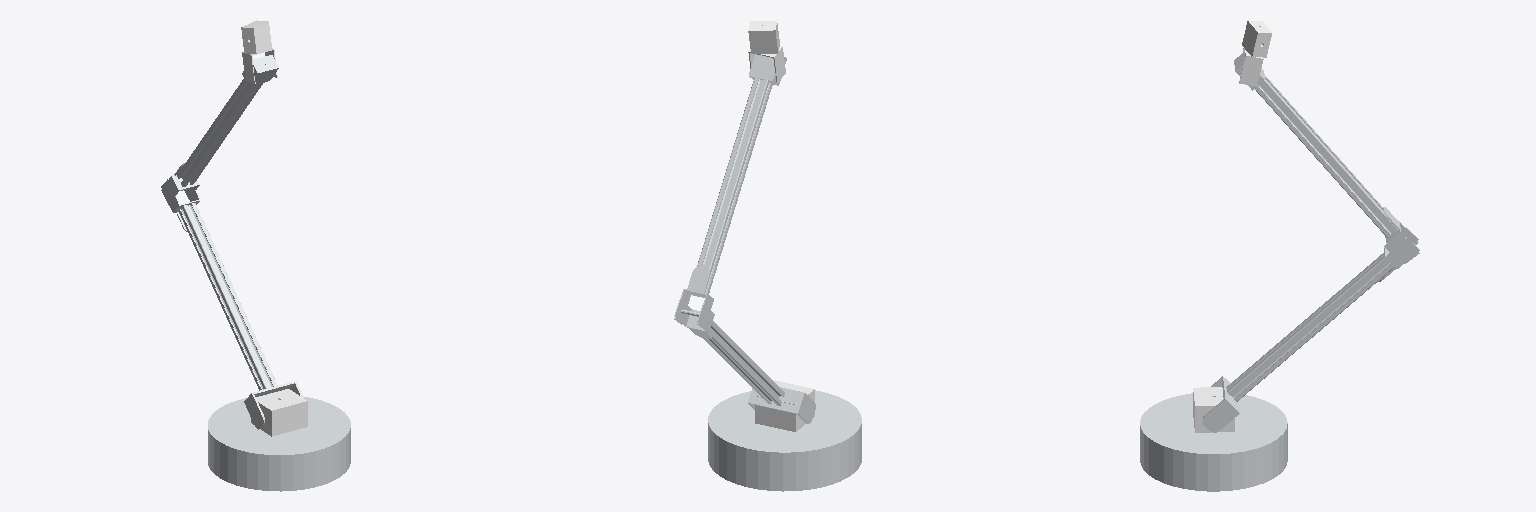
The robot description file, URDF, robot "lcar_arm_urdf":
<?xml version="1.0" encoding="utf-8"?>
<!-- This URDF was automatically created by SolidWorks to URDF Exporter! Originally created by [author] ([email redacted]) 
     Commit Version:   Build Version: 1.6.9335.19781
     For more information, please see http://wiki.ros.org/sw_urdf_exporter -->
<robot
  name="lcar_arm_urdf">
  <link
    name="base_link">
    <inertial>
      <origin
        xyz="-0.02926890694392 0.0335677776513082 0.0578761181628154"
        rpy="0 0 0" />
      <mass
        value="4.81415144801555" />
      <inertia
        ixx="0.013469343791239"
        ixy="-1.47432832463088E-38"
        ixz="-2.62538878256914E-35"
        iyy="0.013469343791239"
        iyz="6.69080537886196E-19"
        izz="0.024422257855332" />
    </inertial>
    <visual>
      <origin
        xyz="0 0 0"
        rpy="0 0 0" />
      <geometry>
        <mesh
          filename="package://lcar_arm_urdf/meshes/base_link.STL" />
      </geometry>
      <material
        name="">
        <color
          rgba="0.898039215686275 0.917647058823529 0.929411764705882 1" />
      </material>
    </visual>
    <collision>
      <origin
        xyz="0 0 0"
        rpy="0 0 0" />
      <geometry>
        <mesh
          filename="package://lcar_arm_urdf/meshes/base_link.STL" />
      </geometry>
    </collision>
  </link>
  <link
    name="link1">
    <inertial>
      <origin
        xyz="-7.26573697040767E-11 -0.0200000028683219 -5.53615452092426E-10"
        rpy="0 0 0" />
      <mass
        value="0.125947655057645" />
      <inertia
        ixx="4.86436700739409E-05"
        ixy="2.04272646501287E-16"
        ixz="1.44616032126546E-13"
        iyy="6.94539601888196E-05"
        iyz="2.11031418164204E-13"
        izz="5.51381735463024E-05" />
    </inertial>
    <visual>
      <origin
        xyz="0 0 0"
        rpy="0 0 0" />
      <geometry>
        <mesh
          filename="package://lcar_arm_urdf/meshes/link1.STL" />
      </geometry>
      <material
        name="">
        <color
          rgba="1 1 1 1" />
      </material>
    </visual>
    <collision>
      <origin
        xyz="0 0 0"
        rpy="0 0 0" />
      <geometry>
        <mesh
          filename="package://lcar_arm_urdf/meshes/link1.STL" />
      </geometry>
    </collision>
  </link>
  <joint
    name="joint1"
    type="continuous">
    <origin
      xyz="-0.0292689069439218 0.0335677776513077 0.0858777699921129"
      rpy="-1.5707963267949 0 0.0447978554545242" />
    <parent
      link="base_link" />
    <child
      link="link1" />
    <axis
      xyz="0 1 0" />
    <limit
      lower="-3.14"
      upper="3.14"
      effort="100"
      velocity="1" />
  </joint>
  <link
    name="link2">
    <inertial>
      <origin
        xyz="-0.153810011525643 0.000207975203657465 0.000496403569817148"
        rpy="0 0 0" />
      <mass
        value="0.204308460446307" />
      <inertia
        ixx="5.88469849389552E-05"
        ixy="-1.30852037743231E-06"
        ixz="-3.71955217993701E-07"
        iyy="0.0010557701363535"
        iyz="-4.53839171198937E-09"
        izz="0.00101653459805799" />
    </inertial>
    <visual>
      <origin
        xyz="0 0 0"
        rpy="0 0 0" />
      <geometry>
        <mesh
          filename="package://lcar_arm_urdf/meshes/link2.STL" />
      </geometry>
      <material
        name="">
        <color
          rgba="0.898039215686275 0.917647058823529 0.929411764705882 1" />
      </material>
    </visual>
    <collision>
      <origin
        xyz="0 0 0"
        rpy="0 0 0" />
      <geometry>
        <mesh
          filename="package://lcar_arm_urdf/meshes/link2.STL" />
      </geometry>
    </collision>
  </link>
  <joint
    name="joint2"
    type="continuous">
    <origin
      xyz="0 -0.0200000000000009 0"
      rpy="1.5707963267949 0.825546390557576 1.5707963267949" />
    <parent
      link="link1" />
    <child
      link="link2" />
    <axis
      xyz="0 0 1" />
    <limit
      lower="-3.14"
      upper="3.14"
      effort="100"
      velocity="1" />
  </joint>
  <link
    name="link3">
    <inertial>
      <origin
        xyz="-0.186205644816554 -0.000731438896466874 -3.97214945943372E-05"
        rpy="0 0 0" />
      <mass
        value="0.183595297698191" />
      <inertia
        ixx="1.9960713706461E-05"
        ixy="-1.30852035481437E-06"
        ixz="1.42372941999571E-08"
        iyy="0.00101057089357093"
        iyz="4.5383944075091E-09"
        izz="0.00100658599677987" />
    </inertial>
    <visual>
      <origin
        xyz="0 0 0"
        rpy="0 0 0" />
      <geometry>
        <mesh
          filename="package://lcar_arm_urdf/meshes/link3.STL" />
      </geometry>
      <material
        name="">
        <color
          rgba="0.898039215686275 0.917647058823529 0.929411764705882 1" />
      </material>
    </visual>
    <collision>
      <origin
        xyz="0 0 0"
        rpy="0 0 0" />
      <geometry>
        <mesh
          filename="package://lcar_arm_urdf/meshes/link3.STL" />
      </geometry>
    </collision>
  </link>
  <joint
    name="joint3"
    type="continuous">
    <origin
      xyz="-0.355500000000002 -0.000500000000000264 0"
      rpy="-3.14159265358979 0 1.49779550247654" />
    <parent
      link="link2" />
    <child
      link="link3" />
    <axis
      xyz="0 0 1" />
    <limit
      lower="-3.14"
      upper="3.14"
      effort="100"
      velocity="1" />
  </joint>
  <link
    name="link4">
    <inertial>
      <origin
        xyz="-0.0123553764551634 -3.10640675448975E-05 1.38777878078145E-17"
        rpy="0 0 0" />
      <mass
        value="0.00519804363608551" />
      <inertia
        ixx="1.51818586167438E-06"
        ixy="9.016268676828E-23"
        ixz="1.32348898008484E-22"
        iyy="1.23081690267317E-06"
        iyz="-1.30032792293336E-21"
        izz="2.27727214056804E-06" />
    </inertial>
    <visual>
      <origin
        xyz="0 0 0"
        rpy="0 0 0" />
      <geometry>
        <mesh
          filename="package://lcar_arm_urdf/meshes/link4.STL" />
      </geometry>
      <material
        name="">
        <color
          rgba="1 1 1 1" />
      </material>
    </visual>
    <collision>
      <origin
        xyz="0 0 0"
        rpy="0 0 0" />
      <geometry>
        <mesh
          filename="package://lcar_arm_urdf/meshes/link4.STL" />
      </geometry>
    </collision>
  </link>
  <joint
    name="joint4"
    type="continuous">
    <origin
      xyz="-0.341500000000001 -0.000499999999999723 0"
      rpy="1.5707963267949 0 0.887395066155006" />
    <parent
      link="link3" />
    <child
      link="link4" />
    <axis
      xyz="0 1 0" />
    <limit
      lower="-3.14"
      upper="3.14"
      effort="100"
      velocity="1" />
  </joint>
  <link
    name="link5">
    <inertial>
      <origin
        xyz="2.6802E-10 -1.9619E-11 -0.016953"
        rpy="0 0 0" />
      <mass
        value="0.029285" />
      <inertia
        ixx="4.8189E-06"
        ixy="-2.6955E-15"
        ixz="2.0376E-13"
        iyy="6.7801E-06"
        iyz="-2.2618E-14"
        izz="4.3867E-06" />
    </inertial>
    <visual>
      <origin
        xyz="0 0 0"
        rpy="0 0 0" />
      <geometry>
        <mesh
          filename="package://lcar_arm_urdf/meshes/link5.STL" />
      </geometry>
      <material
        name="">
        <color
          rgba="1 1 1 1" />
      </material>
    </visual>
    <collision>
      <origin
        xyz="0 0 0"
        rpy="0 0 0" />
      <geometry>
        <mesh
          filename="package://lcar_arm_urdf/meshes/link5.STL" />
      </geometry>
    </collision>
  </link>
  <joint
    name="joint5"
    type="continuous">
    <origin
      xyz="-0.0315474620790718 -3.10640675449426E-05 0"
      rpy="1.5707963267949 0.367299142897227 1.5707963267949" />
    <parent
      link="link4" />
    <child
      link="link5" />
    <axis
      xyz="0 0 1" />
    <limit
      lower="-3.14"
      upper="3.14"
      effort="100"
      velocity="1" />
  </joint>
</robot>

--- Facts derived from the render (not from the file) ---
Views: 3 orthographic renders of the robot side by side, from view 1: azimuth 30°, elevation 25°; view 2: azimuth 150°, elevation 25°; view 3: azimuth 270°, elevation 25°.
Robot: lcar_arm_urdf — 6 links, 5 joints (5 continuous); root link base_link; default pose: every joint at zero.
Links seen in each view (by area): view 1: base_link, link2, link3, link1, link5; view 2: base_link, link3, link2, link1, link5; view 3: base_link, link2, link3, link1, link5, link4.
Boxes of the visible links, x1,y1,x2,y2 form: base_link: [208, 396, 350, 491]; link2: [161, 179, 303, 429]; link3: [161, 55, 278, 204]; link1: [251, 389, 307, 436]; link5: [241, 20, 271, 53]; base_link: [708, 390, 861, 491]; link3: [674, 54, 786, 329]; link2: [674, 298, 815, 423]; link1: [755, 380, 814, 431]; link5: [748, 20, 779, 53]; base_link: [1140, 393, 1287, 491]; link2: [1203, 227, 1419, 432]; link3: [1234, 52, 1419, 263]; link1: [1193, 387, 1234, 432]; link5: [1242, 20, 1271, 57]; link4: [1239, 48, 1263, 86].
Size in the robot's own frame: 0.2007 by 0.3816 by 0.6545 metres.
Meshes: 6 distinct files referenced, 6 mesh visuals loaded (6 binary STL).